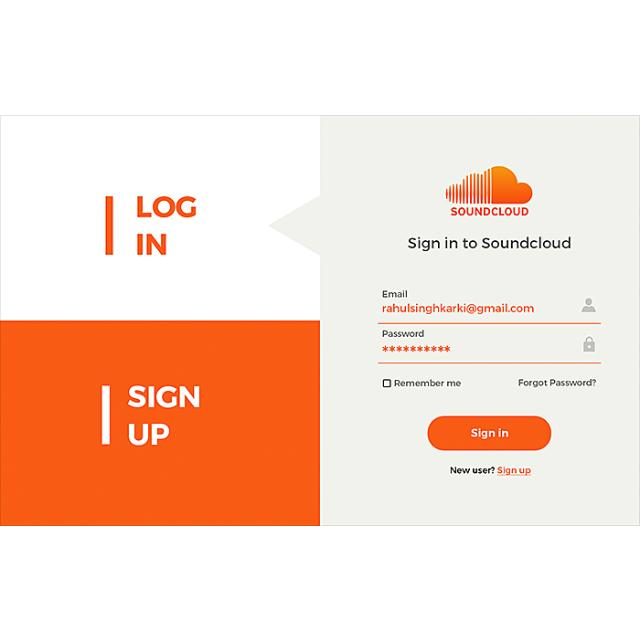QLabel: (404, 232, 578, 255), (514, 376, 598, 389), (394, 378, 462, 388), (449, 464, 495, 476), (468, 426, 510, 439), (497, 466, 531, 476)
VBtn: (426, 414, 552, 450), (496, 466, 532, 476)
VCheckbox: (382, 376, 392, 388)
VImg: (1, 114, 320, 526), (442, 162, 534, 218)
VTextField: (375, 284, 603, 326), (374, 328, 604, 366)
